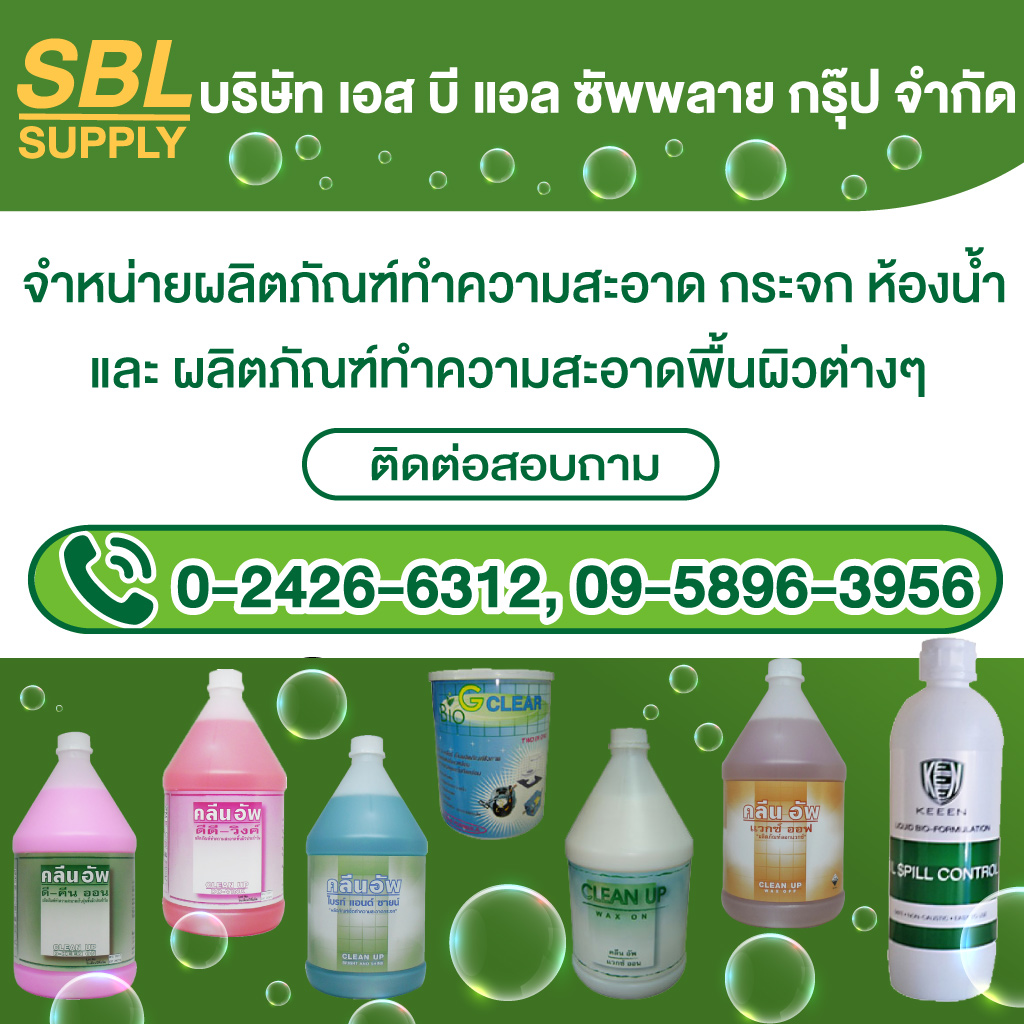Insecticide: (883, 623, 1008, 999), (557, 720, 704, 1004), (714, 654, 857, 936), (296, 728, 438, 1006), (5, 729, 149, 1003), (156, 661, 293, 942), (426, 664, 557, 843)
